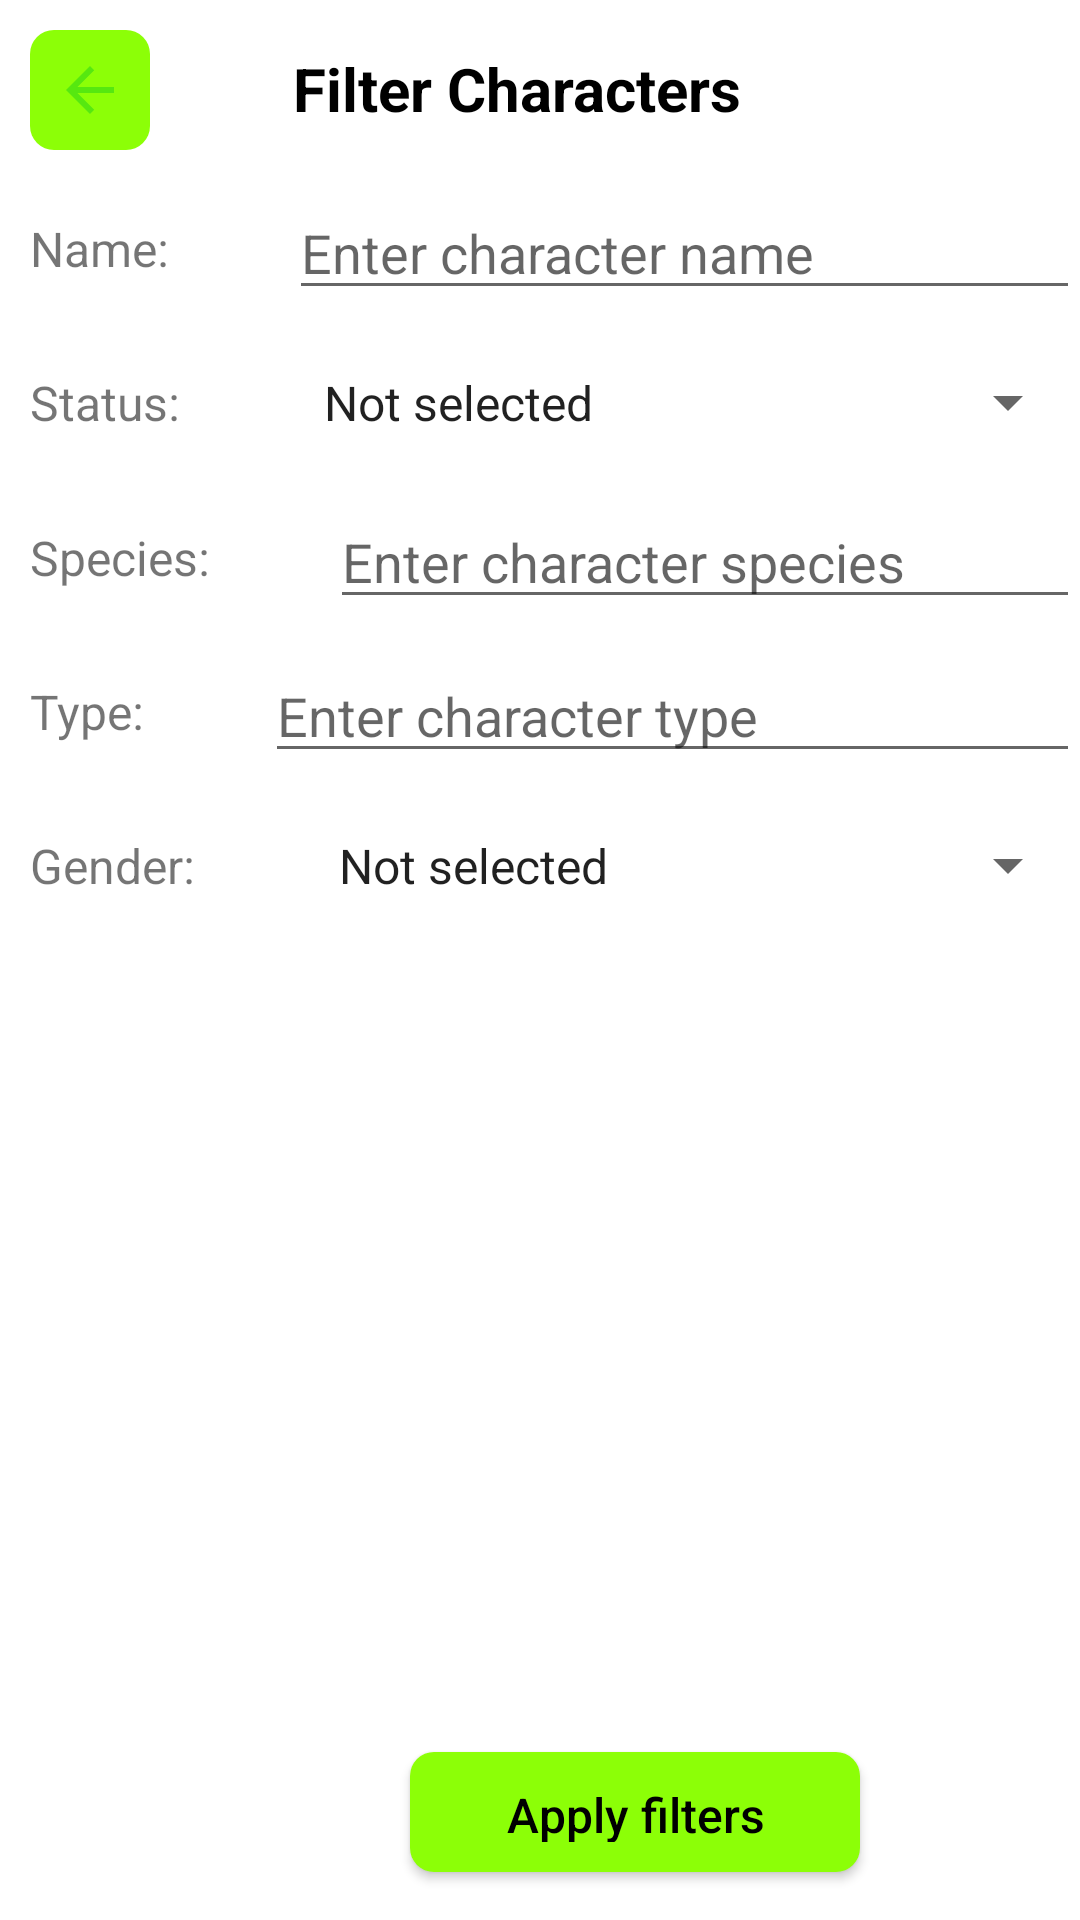

Named icons in this screenshot (1080×1920) and their bounding boxes, box(x1, y1, x2, y2):
Button back: box(30, 30, 150, 150)
